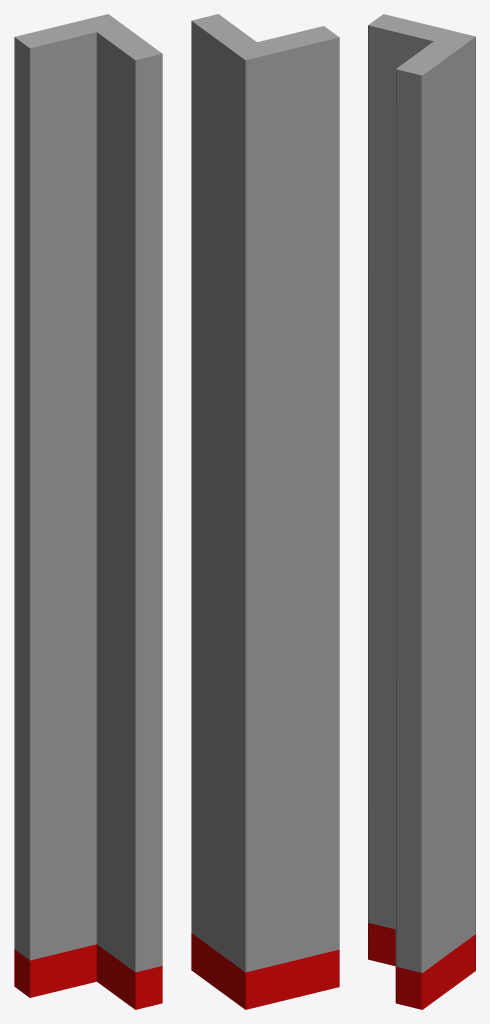
Rendered from Pillar_03_Snaps014.fbx.
3 renders of one model, left to right at view 1: azimuth 30°, elevation 25°; view 2: azimuth 210°, elevation 25°; view 3: azimuth 330°, elevation 25°, orthographic.
Visible parts, largest first — view 1: Pillar_03_LOD00; view 2: Pillar_03_LOD00; view 3: Pillar_03_LOD00.
Boxes of the visible parts, x1,y1,x2,y2 form: Pillar_03_LOD00: (14, 14, 162, 1009); Pillar_03_LOD00: (191, 14, 339, 1009); Pillar_03_LOD00: (368, 14, 475, 1009).
Size of what is drawn, in the model's own units: 39.39 by 380 by 39.39.
